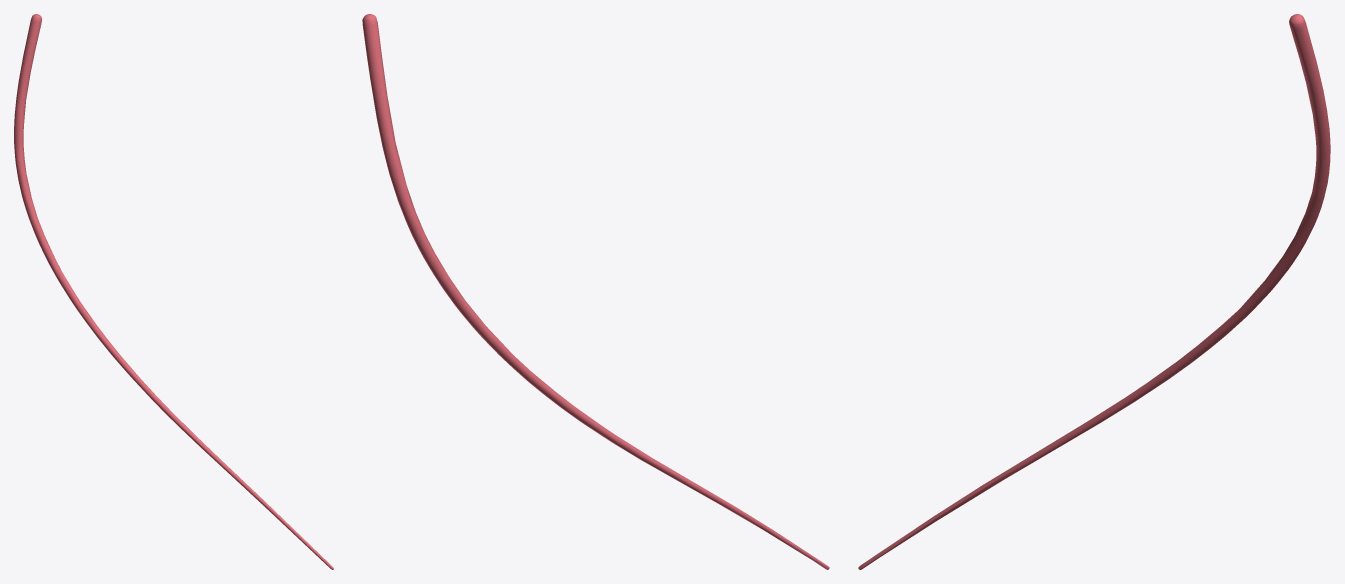
File: fma23050_fj2364.glb
The picture shows the model from 3 angles, left to right: view 1: azimuth 90°, elevation 25°; view 2: azimuth 150°, elevation 25°; view 3: azimuth 270°, elevation 25°; orthographic projection. The views are drawn at different scales.
Parts seen in each view (by area): view 1: FMA23050_FJ2364; view 2: FMA23050_FJ2364; view 3: FMA23050_FJ2364.
Boxes of the visible parts, left/top/right/bottom form: FMA23050_FJ2364: left=14, top=14, right=333, bottom=569; FMA23050_FJ2364: left=362, top=14, right=829, bottom=569; FMA23050_FJ2364: left=858, top=14, right=1330, bottom=569.
Size of the model in its own units: 0.029 by 0.0681 by 0.0424.
